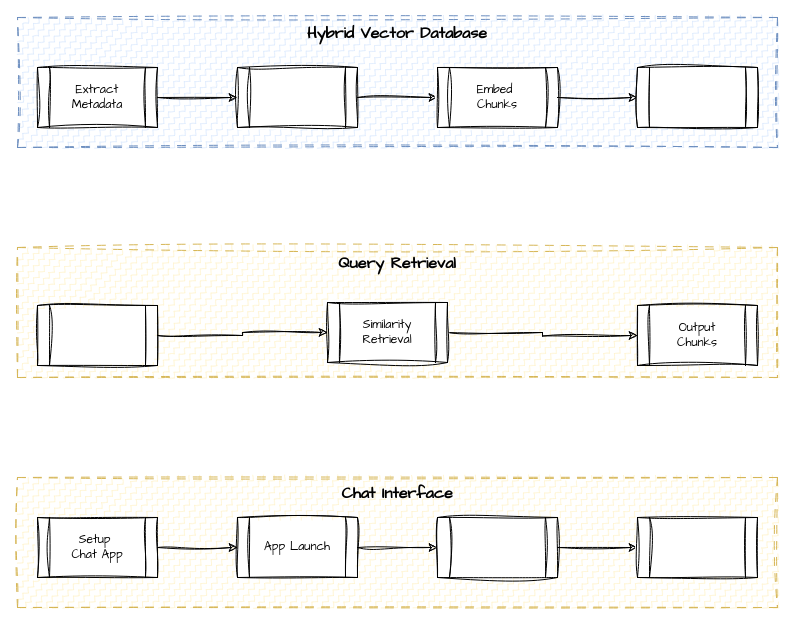
The diagram is 795 pixels wide and 625 high, and some of its shapes have lost their labels. Each missing label, with the centre of its shape:
"Chunk Documents" goes at (x=297, y=97).
"Prompt Inspection" goes at (x=697, y=547).
"Search Query" goes at (x=97, y=335).
"Setup Chroma DB" goes at (x=697, y=97).
"Test Run App" goes at (x=497, y=547).
